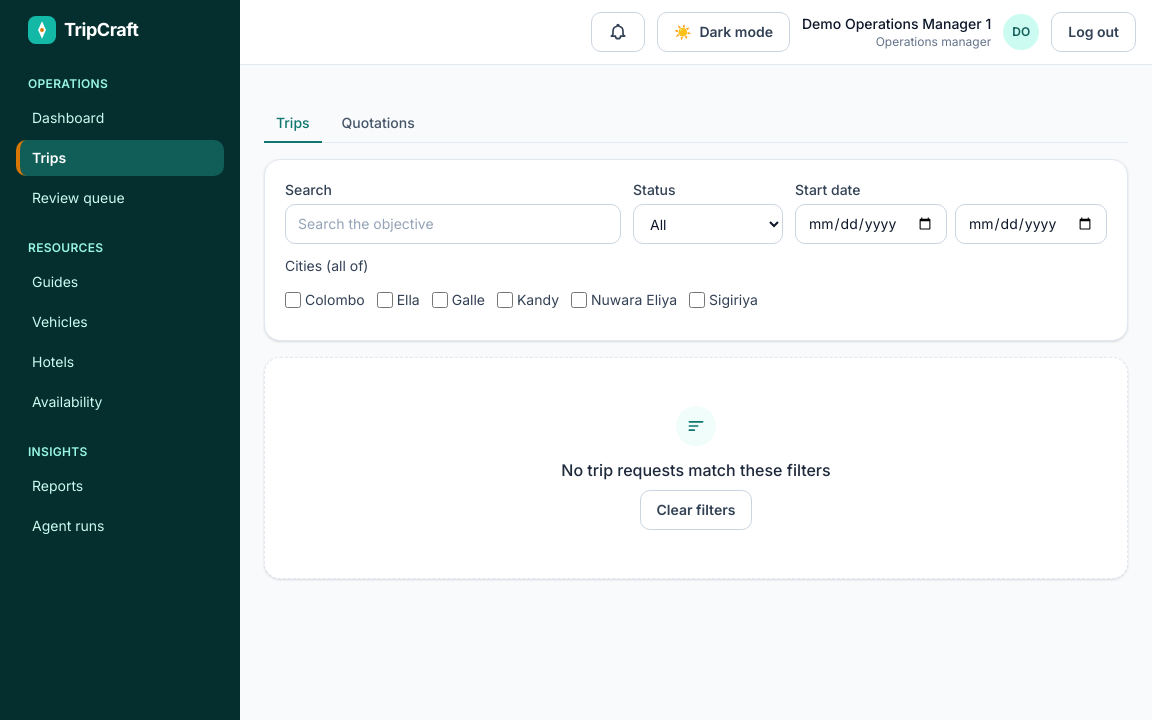
Test case: Trips page: Quotations tab › switches between the Trips and Quotations tabs through the URL
The width and height of the screenshot is (1152, 720).
Click the tab "Quotations" at (378, 124), box [330,105,427,143]
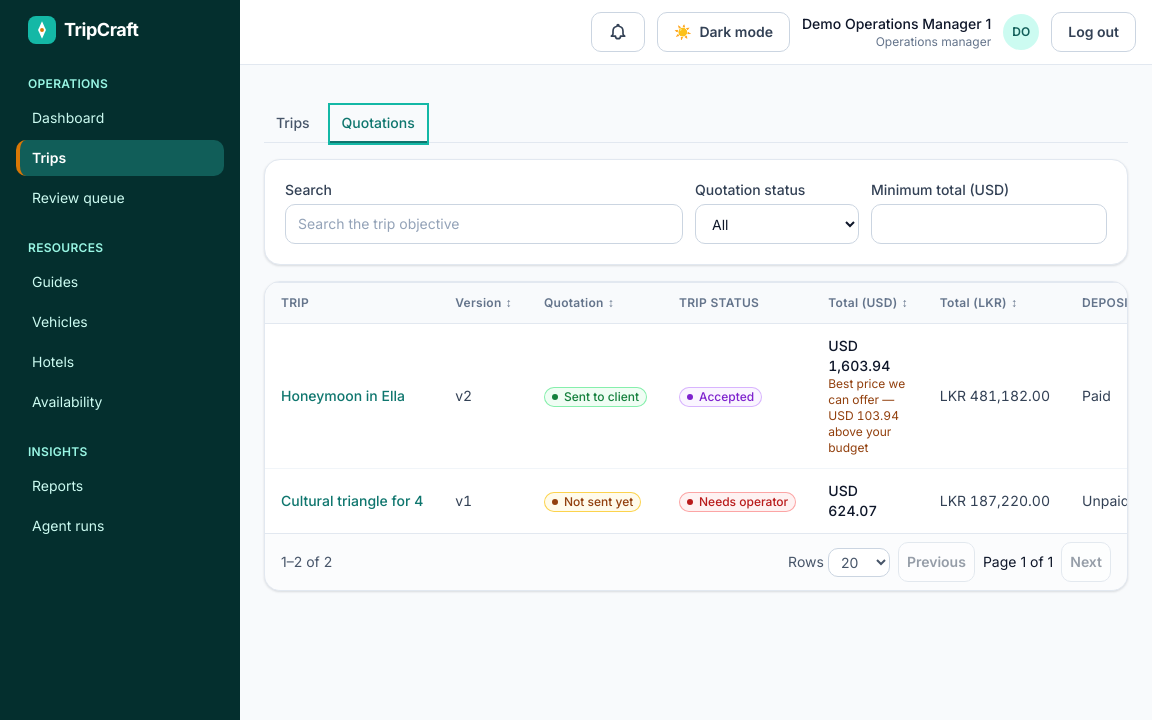
Expected: the link "Honeymoon in Ella" is shown, [281,387,405,404]
